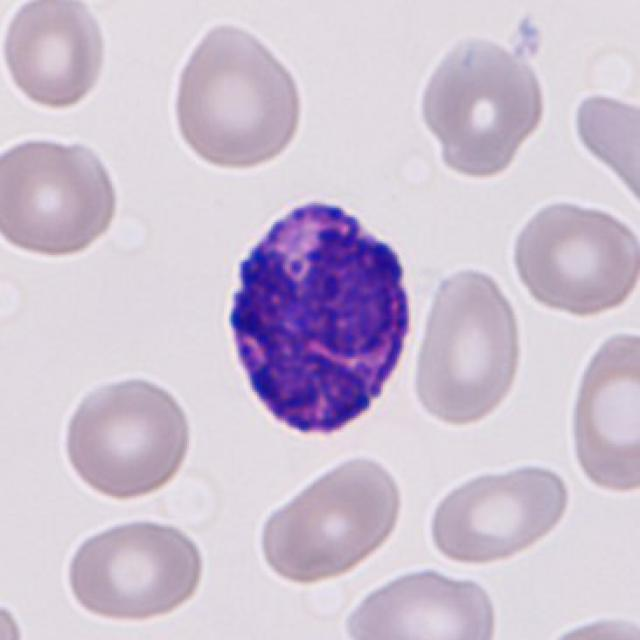Basophil: (212, 185, 425, 452)
Platelets: (507, 14, 546, 59)
RBC: (166, 15, 308, 174), (253, 451, 408, 588), (409, 262, 526, 430), (414, 32, 549, 174), (58, 371, 196, 501), (423, 458, 574, 569), (506, 194, 638, 319), (61, 514, 208, 626), (0, 132, 122, 262), (335, 563, 500, 640), (565, 323, 638, 496), (0, 0, 112, 111), (568, 85, 638, 210), (531, 610, 640, 640), (0, 588, 28, 640)
